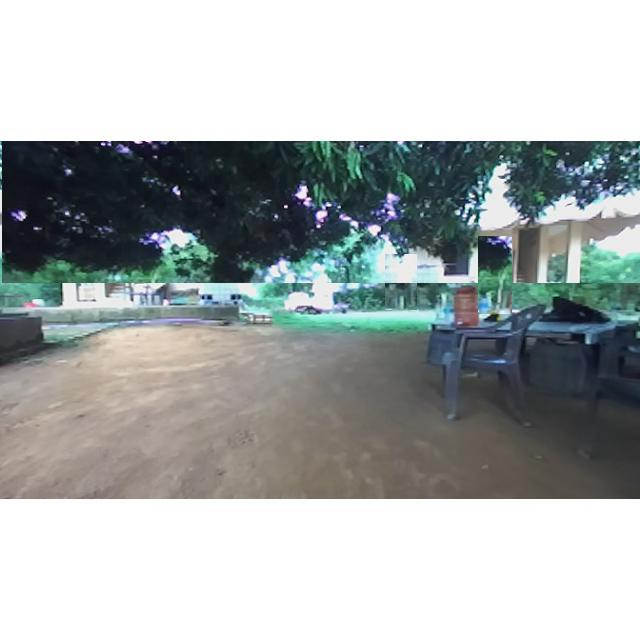direk: (2, 141, 640, 283), (478, 236, 512, 314), (385, 254, 417, 310)
